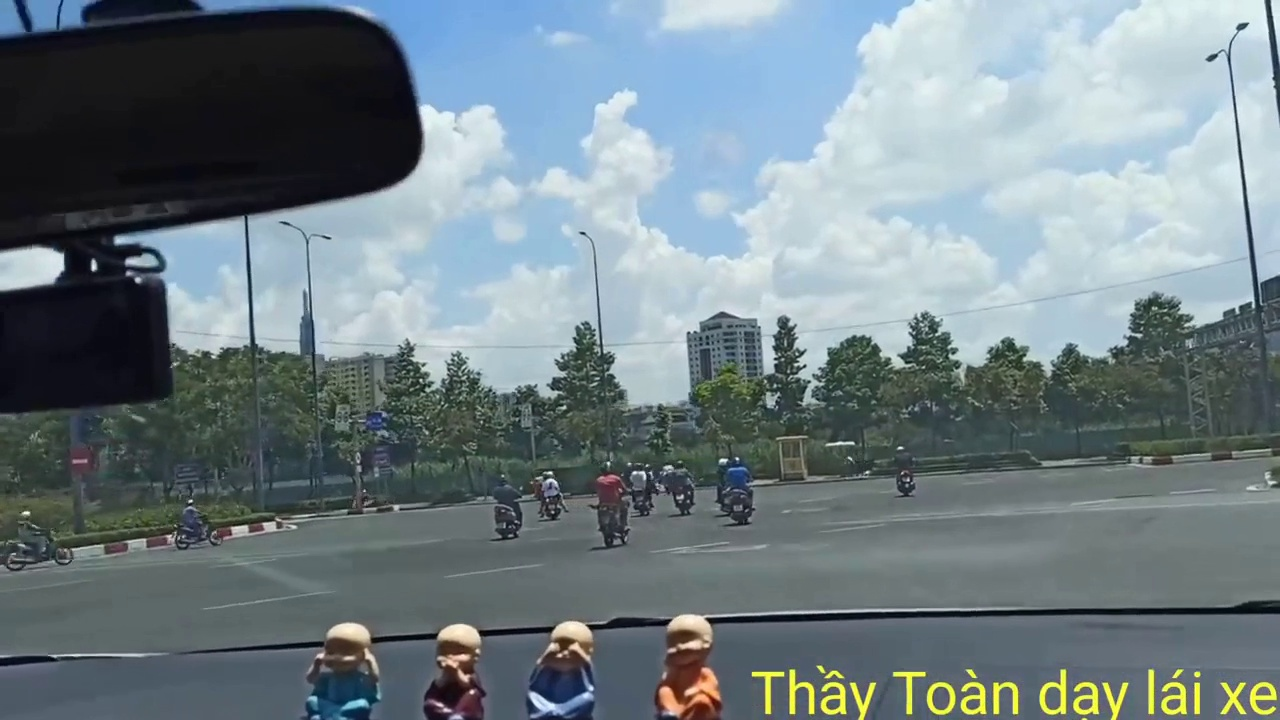Cấm các phương tiện quy định theo khung giờ: (333, 400, 353, 435)
Cấm đi ngược chiều: (61, 443, 94, 477)
Làn đường cho từng xe: (364, 406, 388, 433)
